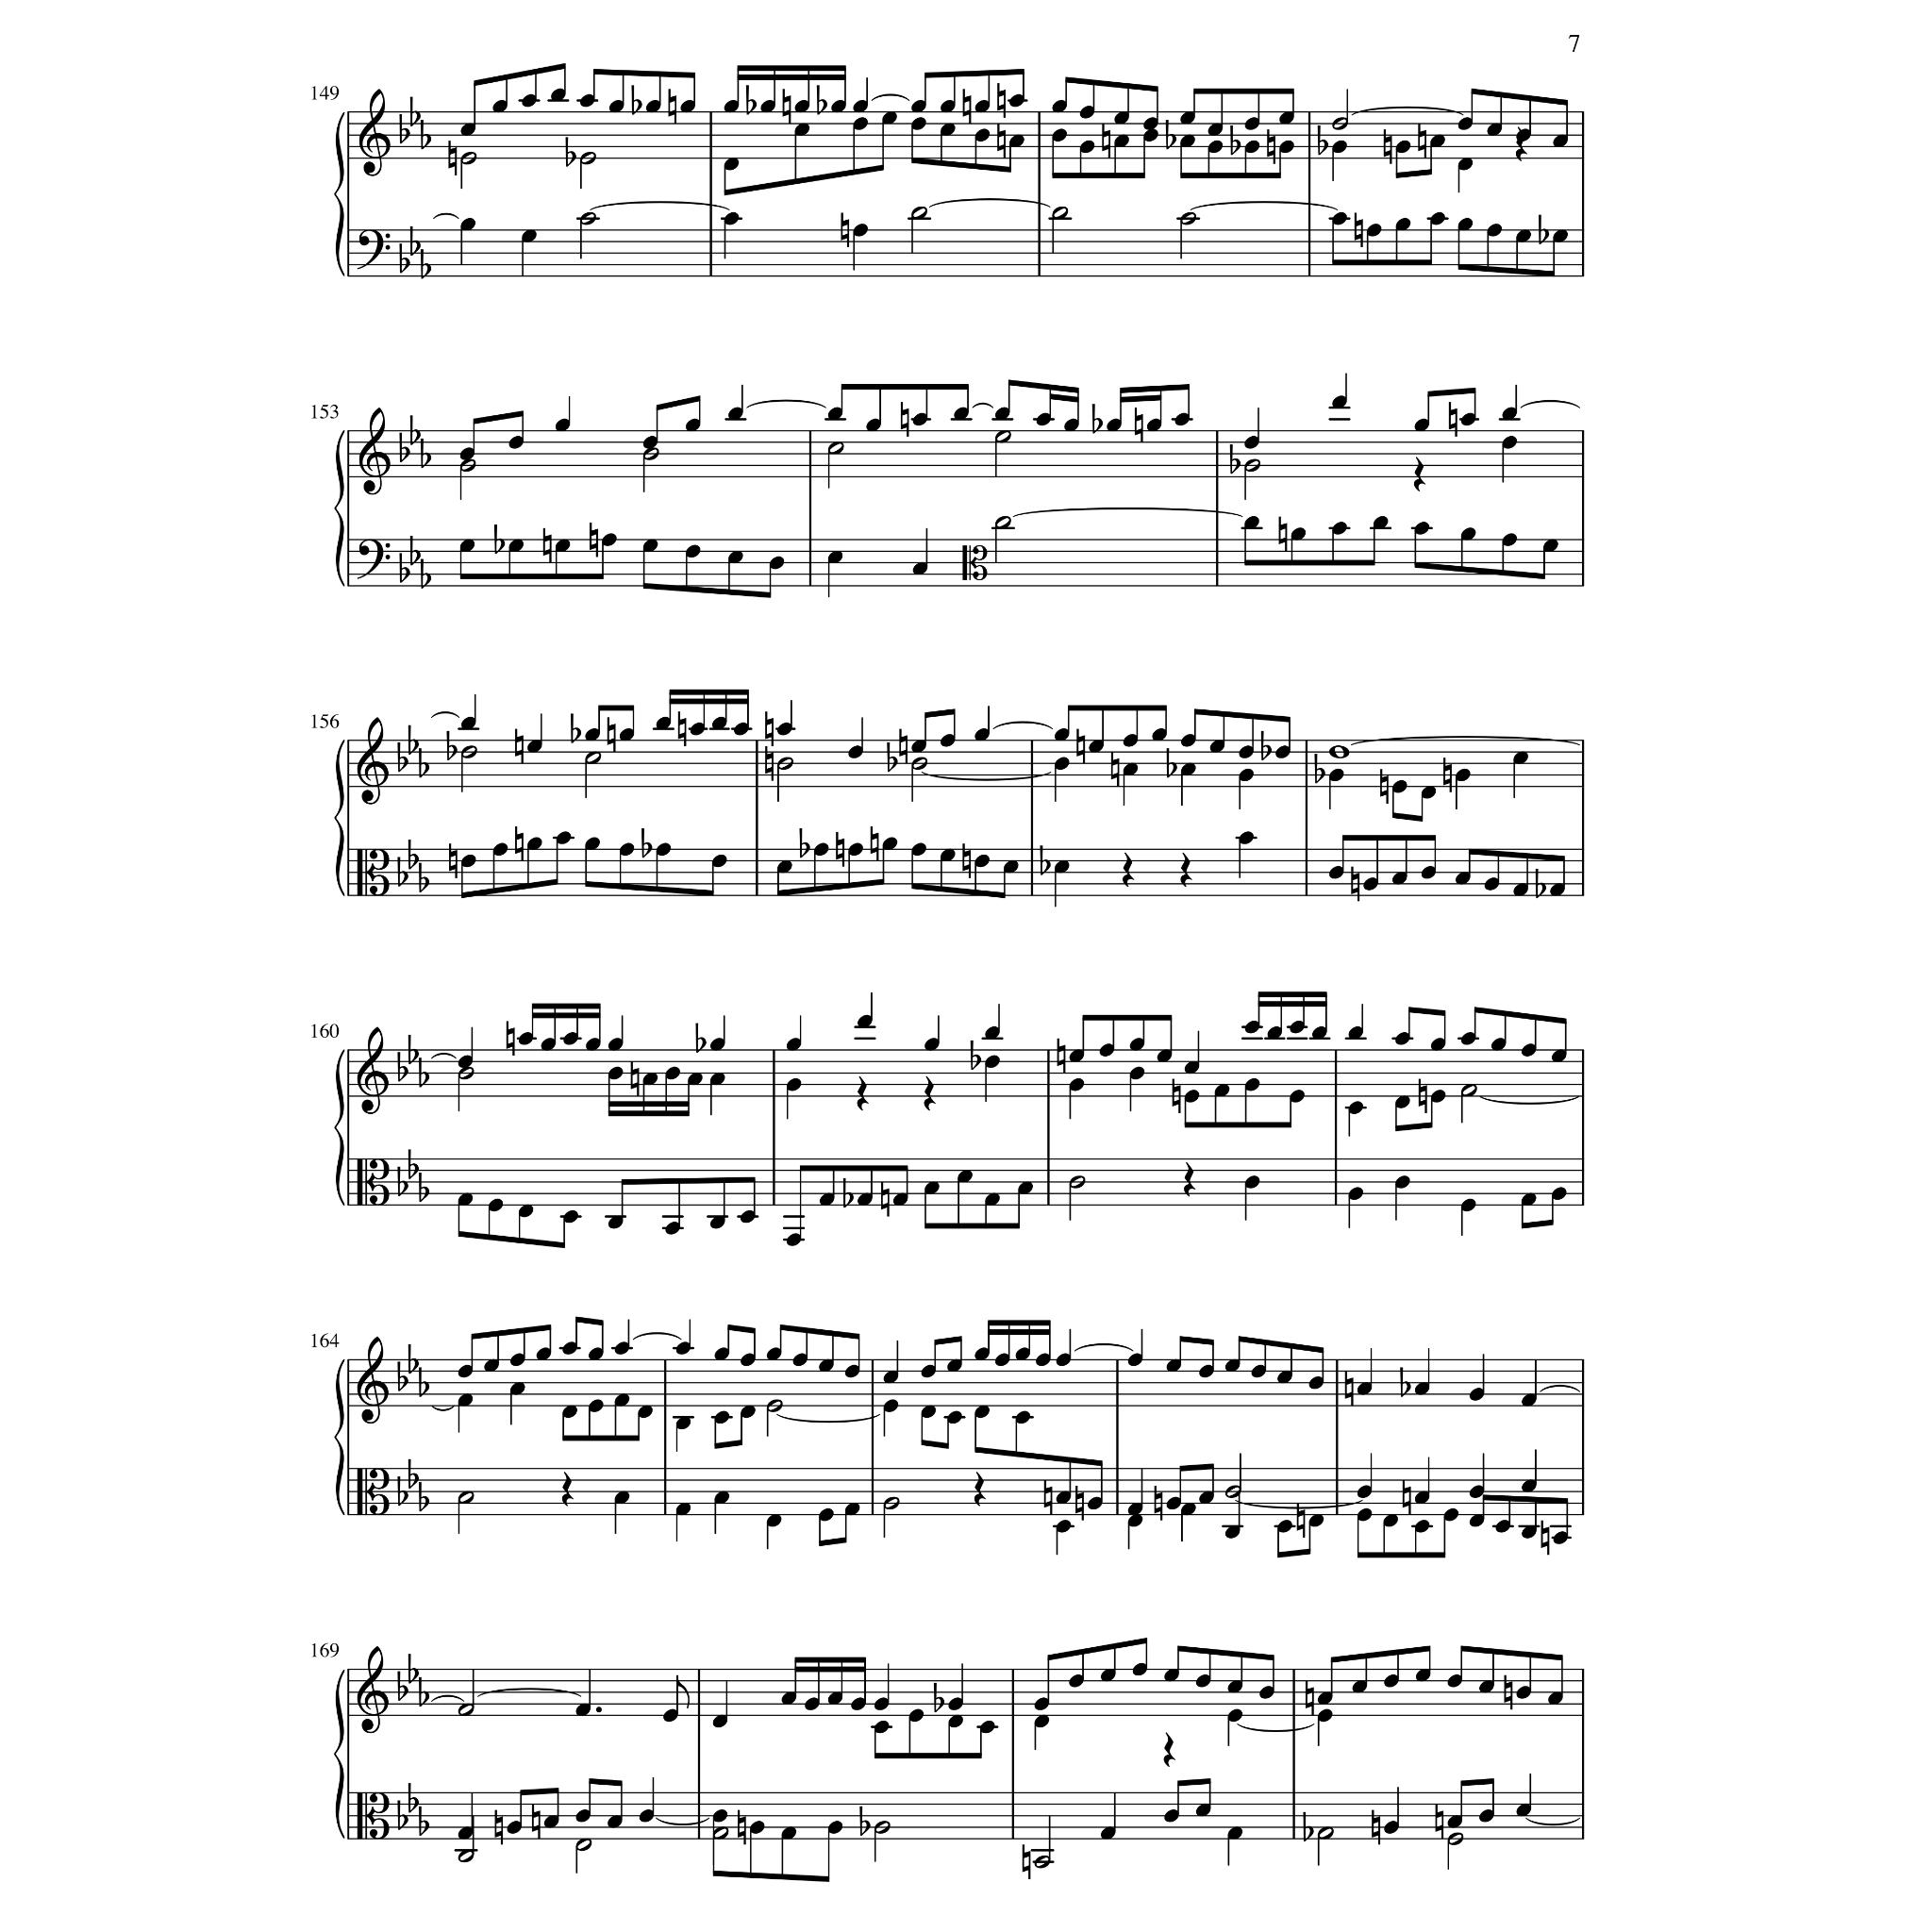brace: (333, 1668, 345, 1838), (333, 111, 345, 276), (333, 430, 345, 587), (333, 740, 345, 897), (333, 1049, 345, 1207), (333, 1359, 345, 1516)
fClef: (357, 230, 391, 271), (357, 540, 391, 580)
flag8thUp: (676, 1675, 690, 1709)
gClef: (359, 88, 391, 177), (359, 407, 391, 495), (357, 717, 389, 805), (357, 1026, 389, 1115), (357, 1336, 389, 1424), (357, 1645, 389, 1734)
noteheadBlack: (1113, 134, 1131, 149), (644, 99, 662, 113), (759, 99, 777, 113), (830, 99, 847, 113), (686, 1072, 704, 1086), (517, 1031, 534, 1046), (517, 1205, 534, 1219), (1014, 1410, 1031, 1424), (1014, 1346, 1031, 1361), (1355, 1382, 1373, 1396), (1099, 1826, 1116, 1840), (1099, 1668, 1116, 1683), (872, 1697, 890, 1711), (1244, 140, 1260, 154), (1207, 140, 1223, 154), (1279, 140, 1295, 154), (1332, 140, 1348, 154), (1079, 140, 1095, 154), (1180, 134, 1196, 149), (1143, 129, 1159, 143), (1552, 134, 1568, 149), (1516, 129, 1532, 143), (1394, 140, 1410, 154), (1394, 218, 1410, 232), (1458, 218, 1474, 232), (1458, 157, 1474, 172), (1430, 134, 1445, 149), (679, 99, 695, 113), (609, 99, 625, 113), (724, 99, 740, 113), (724, 157, 740, 172), (460, 218, 476, 232), (550, 88, 566, 103), (579, 94, 594, 108), (492, 99, 508, 113), (522, 94, 538, 108), (975, 99, 991, 113), (975, 129, 991, 143), (939, 99, 955, 113), (1051, 99, 1067, 113), (1051, 129, 1067, 143), (1008, 94, 1024, 108), (1008, 134, 1024, 149), (853, 99, 869, 113), (794, 99, 810, 113), (911, 99, 927, 113), (1244, 435, 1260, 449), (1035, 412, 1051, 426), (1175, 412, 1191, 426), (1543, 540, 1559, 554), (1502, 533, 1518, 547), (1502, 435, 1518, 449), (1502, 407, 1518, 421), (1332, 395, 1348, 409), (1460, 412, 1476, 426), (602, 533, 617, 547), (554, 540, 570, 554), (685, 545, 701, 559), (642, 540, 658, 554), (642, 435, 658, 449), (508, 540, 524, 554), (508, 435, 524, 449), (458, 540, 474, 554), (458, 448, 474, 462), (994, 407, 1010, 421), (954, 407, 970, 421), (911, 412, 927, 426), (727, 407, 743, 421), (727, 550, 743, 564), (826, 550, 842, 564), (826, 407, 842, 421), (1180, 763, 1196, 777), (1274, 745, 1290, 759), (1238, 830, 1254, 844), (1238, 745, 1254, 759), (1003, 860, 1019, 874), (1054, 860, 1070, 874), (1122, 763, 1138, 777), (1513, 883, 1529, 897), (1548, 883, 1564, 897), (1454, 870, 1470, 885), (1329, 865, 1345, 879), (1421, 786, 1437, 800), (1421, 865, 1437, 879), (1392, 870, 1408, 885), (619, 842, 635, 856), (556, 830, 571, 844), (584, 837, 600, 851), (690, 722, 706, 736), (711, 717, 727, 731), (711, 855, 727, 869), (655, 717, 671, 731), (655, 842, 671, 856), (460, 717, 476, 731), (460, 855, 476, 869), (527, 837, 543, 851), (492, 842, 508, 856), (881, 837, 897, 851), (911, 842, 927, 856), (847, 745, 863, 759), (812, 842, 828, 856), (847, 842, 863, 856), (975, 855, 991, 869), (777, 860, 793, 874), (777, 722, 793, 736), (732, 722, 748, 736), (1244, 1077, 1260, 1092), (1244, 1175, 1260, 1189), (1311, 1026, 1327, 1040), (1267, 1026, 1283, 1040), (1069, 1077, 1085, 1092), (1129, 1037, 1145, 1051), (1129, 1067, 1145, 1081), (1490, 1037, 1506, 1051), (1394, 1031, 1410, 1046), (1394, 1095, 1410, 1109), (1348, 1026, 1364, 1040), (1348, 1100, 1364, 1115), (1394, 1175, 1410, 1189), (1460, 1031, 1476, 1046), (1430, 1037, 1445, 1051), (607, 1037, 623, 1051), (607, 1067, 623, 1081), (607, 1215, 623, 1230), (563, 1031, 579, 1046), (563, 1210, 579, 1224), (586, 1037, 602, 1051), (709, 1037, 725, 1051), (709, 1072, 725, 1086), (709, 1215, 725, 1230), (642, 1072, 658, 1086), (665, 1067, 681, 1081), (665, 1221, 681, 1235), (540, 1037, 556, 1051), (924, 1037, 939, 1051), (984, 1026, 1000, 1040), (957, 1169, 973, 1184), (786, 1233, 801, 1247), (786, 1077, 801, 1092), (786, 1037, 801, 1051), (740, 1210, 755, 1224), (1198, 1490, 1214, 1504), (1166, 1497, 1182, 1511), (1180, 1502, 1196, 1516), (1166, 1359, 1182, 1373), (1277, 1369, 1293, 1384), (1224, 1359, 1240, 1373), (1224, 1525, 1240, 1539), (1054, 1490, 1070, 1504), (1086, 1497, 1102, 1511), (1127, 1502, 1143, 1516), (1520, 1479, 1536, 1493), (1552, 1530, 1568, 1545), (1520, 1525, 1536, 1539), (1468, 1387, 1484, 1401), (1414, 1490, 1430, 1504), (1414, 1382, 1430, 1396), (614, 1341, 630, 1355), (614, 1490, 630, 1504), (587, 1346, 603, 1361), (587, 1399, 603, 1414), (713, 1346, 729, 1361), (713, 1410, 729, 1424), (713, 1490, 729, 1504), (676, 1341, 692, 1355), (676, 1502, 692, 1516), (536, 1346, 552, 1361), (483, 1359, 499, 1373), (510, 1382, 525, 1396), (883, 1369, 899, 1384), (883, 1399, 899, 1414), (975, 1346, 991, 1361), (947, 1359, 962, 1373), (947, 1410, 962, 1424), (766, 1346, 782, 1361), (819, 1359, 835, 1373), (844, 1502, 860, 1516), (1226, 1826, 1242, 1840), (1226, 1709, 1242, 1723), (1194, 1803, 1210, 1817), (1194, 1674, 1210, 1688), (1316, 1709, 1332, 1723), (1069, 1674, 1085, 1688), (1164, 1668, 1180, 1683), (1132, 1663, 1148, 1677), (1516, 1803, 1532, 1817), (1382, 1821, 1398, 1835), (1382, 1674, 1398, 1688), (1447, 1674, 1463, 1688), (1415, 1668, 1431, 1683), (662, 1709, 678, 1723), (575, 1702, 591, 1716), (506, 1821, 522, 1835), (456, 1826, 472, 1840), (908, 1709, 924, 1723), (849, 1697, 865, 1711), (1033, 1697, 1049, 1711), (948, 1697, 964, 1711), (805, 1697, 821, 1711), (780, 1826, 796, 1840), (748, 1821, 764, 1835), (1113, 111, 1131, 124), (1483, 878, 1500, 890), (1155, 1049, 1173, 1062), (1355, 1509, 1373, 1522), (1355, 1486, 1373, 1499), (872, 1721, 890, 1734), (563, 1341, 577, 1355), (828, 1821, 842, 1835), (1244, 119, 1260, 131), (1207, 124, 1223, 136), (1332, 212, 1348, 225), (1279, 111, 1295, 124), (1079, 106, 1095, 119), (1180, 111, 1196, 124), (1143, 119, 1159, 131), (1552, 230, 1568, 242), (1516, 230, 1532, 242), (1486, 225, 1502, 237), (1366, 225, 1382, 237), (1486, 124, 1502, 136), (1430, 212, 1445, 225), (1458, 119, 1474, 131), (724, 212, 740, 225), (460, 124, 476, 136), (522, 230, 538, 242), (939, 124, 955, 136), (853, 119, 869, 131), (853, 225, 869, 237), (794, 124, 810, 136), (881, 111, 897, 124), (911, 119, 927, 131), (1244, 517, 1260, 529), (1290, 529, 1306, 541), (1146, 419, 1162, 432), (1106, 419, 1122, 432), (1063, 419, 1079, 432), (1414, 522, 1430, 534), (1414, 419, 1430, 432), (1373, 517, 1389, 529), (1332, 522, 1348, 534), (1460, 529, 1476, 541), (554, 419, 570, 432), (685, 419, 701, 432), (865, 419, 881, 432), (911, 563, 927, 575), (768, 557, 784, 570), (1180, 734, 1196, 747), (1152, 729, 1168, 741), (1238, 770, 1254, 782), (1054, 729, 1070, 741), (1054, 757, 1070, 770), (1122, 734, 1138, 747), (1088, 740, 1104, 752), (1513, 752, 1529, 764), (1454, 770, 1470, 782), (1362, 878, 1378, 890), (1329, 770, 1345, 782), (1392, 780, 1408, 793), (619, 729, 635, 741), (584, 729, 600, 741), (527, 740, 543, 752), (911, 740, 927, 752), (939, 849, 955, 862), (939, 734, 955, 747), (975, 729, 991, 741), (1244, 1021, 1260, 1033), (1214, 1085, 1230, 1097), (1290, 1021, 1306, 1033), (1290, 1090, 1306, 1102), (1017, 1182, 1033, 1194), (1069, 1049, 1085, 1062), (1184, 1062, 1200, 1074), (1099, 1044, 1115, 1056), (1184, 1090, 1200, 1102), (1520, 1044, 1536, 1056), (1520, 1194, 1536, 1207), (1552, 1049, 1568, 1062), (1552, 1187, 1568, 1200), (1348, 1187, 1364, 1200), (1430, 1090, 1445, 1102), (1460, 1200, 1476, 1212), (456, 1056, 472, 1069), (456, 1194, 472, 1207), (487, 1200, 502, 1212), (892, 1194, 908, 1207), (856, 1016, 872, 1028), (856, 1194, 872, 1207), (924, 1182, 939, 1194), (984, 1056, 1000, 1069), (984, 1194, 1000, 1207), (819, 1194, 835, 1207), (1198, 1366, 1214, 1378), (1277, 1520, 1293, 1532), (1307, 1376, 1323, 1389), (1307, 1514, 1323, 1527), (1251, 1366, 1267, 1378), (1035, 1353, 1051, 1366), (1054, 1353, 1070, 1366), (1054, 1520, 1070, 1532), (994, 1353, 1010, 1366), (1127, 1353, 1143, 1366), (1127, 1514, 1143, 1527), (1495, 1520, 1511, 1532), (1520, 1394, 1536, 1407), (1444, 1509, 1460, 1522), (1468, 1514, 1484, 1527), (1468, 1486, 1484, 1499), (1382, 1514, 1398, 1527), (1414, 1520, 1430, 1532), (614, 1394, 630, 1407), (637, 1405, 653, 1417), (676, 1417, 692, 1430), (456, 1394, 472, 1407), (456, 1366, 472, 1378), (510, 1353, 525, 1366), (920, 1366, 936, 1378), (920, 1405, 936, 1417), (975, 1405, 991, 1417), (740, 1405, 755, 1417), (740, 1353, 755, 1366), (793, 1353, 809, 1366), (766, 1514, 782, 1527), (819, 1509, 835, 1522), (844, 1366, 860, 1378), (1226, 1681, 1242, 1693), (1316, 1691, 1332, 1704), (1260, 1686, 1276, 1698), (1164, 1810, 1180, 1822), (1548, 1691, 1564, 1704), (1516, 1686, 1532, 1698), (1479, 1810, 1495, 1822), (1479, 1681, 1495, 1693), (1352, 1681, 1368, 1693), (1447, 1815, 1463, 1828), (639, 1810, 655, 1822), (607, 1815, 623, 1828), (575, 1810, 591, 1822), (711, 1810, 727, 1822), (711, 1714, 727, 1727), (543, 1815, 559, 1828), (978, 1721, 994, 1734), (1033, 1714, 1049, 1727), (948, 1714, 964, 1727), (780, 1691, 796, 1704), (1210, 740, 1224, 752), (563, 1405, 577, 1417), (828, 1691, 842, 1704)
noteheadHalf: (1051, 207, 1069, 221), (642, 448, 660, 462), (994, 430, 1012, 444), (460, 745, 478, 759), (1069, 1175, 1086, 1189), (883, 1497, 901, 1511), (766, 1399, 784, 1414), (1316, 1826, 1334, 1840), (1447, 1831, 1465, 1845), (911, 207, 927, 221), (828, 441, 844, 455), (458, 1067, 474, 1081), (458, 1490, 474, 1504), (713, 1826, 729, 1840), (874, 1821, 890, 1835), (1330, 119, 1348, 131), (579, 152, 596, 165), (579, 212, 596, 225), (994, 517, 1012, 529), (584, 752, 602, 764), (1460, 1085, 1477, 1097), (1224, 1486, 1242, 1499), (1033, 1856, 1051, 1868), (1180, 212, 1196, 225), (460, 152, 476, 165), (1244, 460, 1260, 472), (460, 460, 476, 472), (911, 757, 927, 770), (777, 757, 793, 770), (575, 1838, 591, 1851), (458, 1704, 474, 1716), (458, 1851, 474, 1863)
noteheadWhole: (1329, 745, 1350, 759)
restQuarter: (1514, 126, 1527, 163), (1184, 1161, 1196, 1198), (561, 1470, 573, 1507), (973, 1470, 985, 1507), (1414, 456, 1426, 492), (924, 1076, 936, 1111), (856, 1076, 869, 1111), (1164, 1732, 1177, 1767), (1180, 853, 1192, 886), (1122, 853, 1134, 886)
